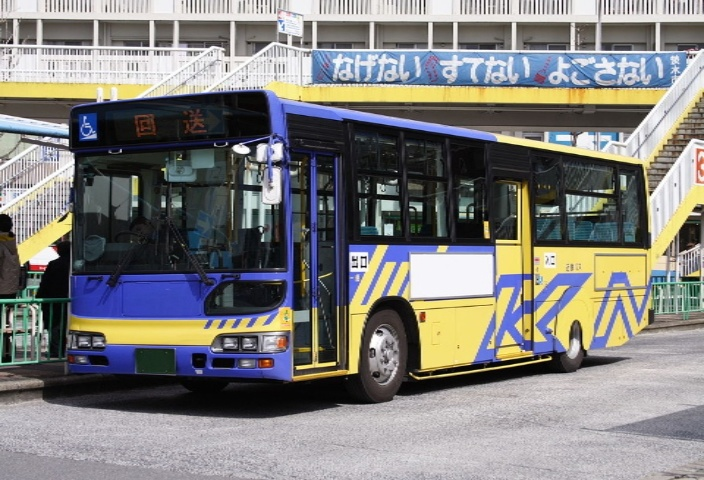bus: (52, 77, 663, 402)
